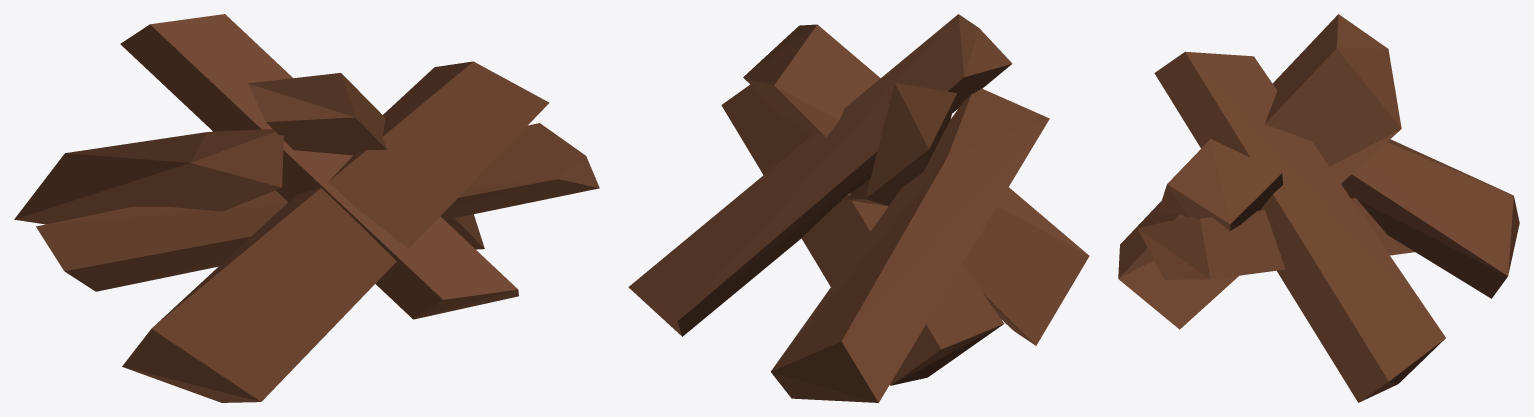
The model's file is campfire.dae.
3 renders of one model, left to right at view 1: azimuth 30°, elevation 25°; view 2: azimuth 150°, elevation 25°; view 3: azimuth 270°, elevation 25°, orthographic. The views are drawn at different scales.
Visible parts, largest first — view 1: Cube.001; view 2: Cube.001; view 3: Cube.001.
Boxes of the visible parts, left/top/right/bottom form: Cube.001: left=14, top=14, right=599, bottom=402; Cube.001: left=628, top=14, right=1089, bottom=402; Cube.001: left=1118, top=14, right=1519, bottom=402.
Bounding box in the file's own units: 1.49 × 1.5 × 1.08.
Materials: 1 (1 with a texture image).
